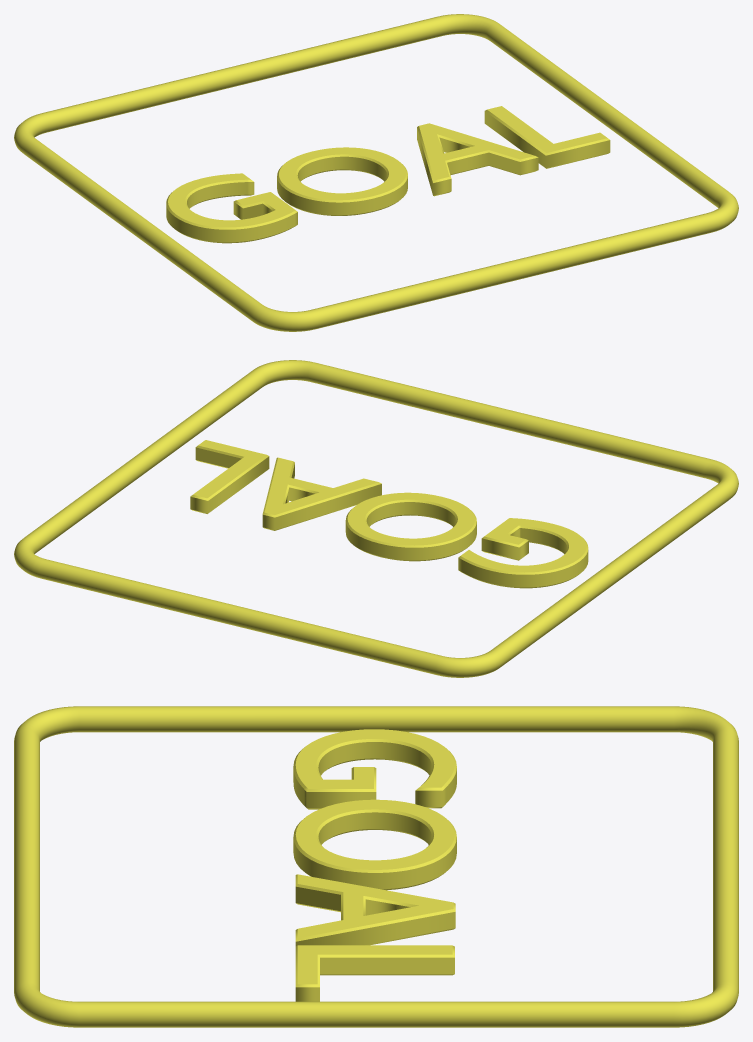
Rendered from Masu_Goal.fbx.
The picture shows the model from 3 angles, top to bottom: view 1: azimuth 30°, elevation 25°; view 2: azimuth 150°, elevation 25°; view 3: azimuth 270°, elevation 25°; orthographic projection. The views are drawn at different scales.
Parts seen in each view (by area): view 1: Torus, Text; view 2: Torus, Text; view 3: Torus, Text.
Part boxes in pixels (left/top/right/bottom): Torus: left=14, top=14, right=738, bottom=331; Text: left=166, top=106, right=610, bottom=243; Torus: left=14, top=360, right=738, bottom=677; Text: left=190, top=440, right=588, bottom=588; Torus: left=14, top=706, right=738, bottom=1027; Text: left=293, top=729, right=456, bottom=1001.
Bounding box in the file's own units: 487 × 17.5 × 487.
